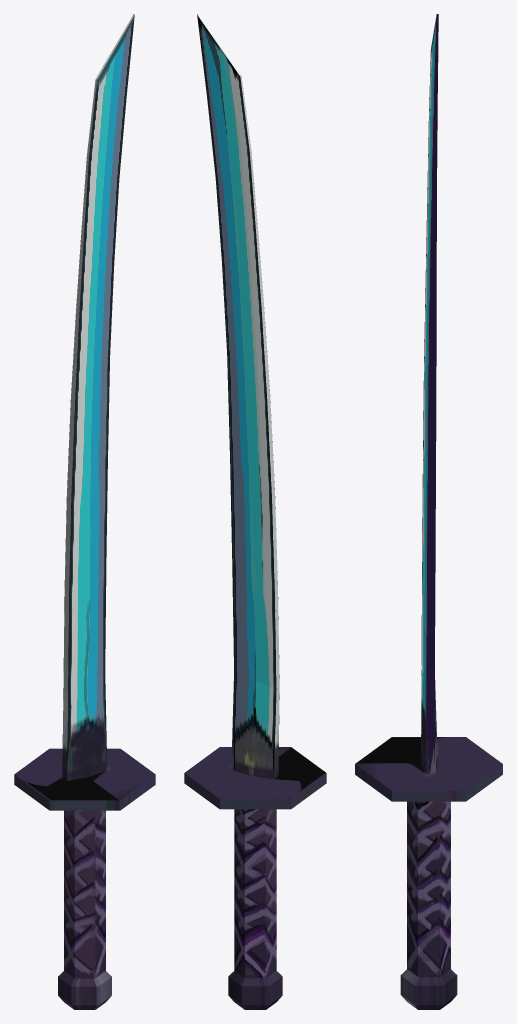
Rendered from SM_Katana.fbx.
The picture shows the model from 3 angles, left to right: view 1: azimuth 30°, elevation 25°; view 2: azimuth 150°, elevation 25°; view 3: azimuth 270°, elevation 25°; orthographic projection. The views are drawn at different scales.
Parts seen in each view (by area): view 1: SM_Katana; view 2: SM_Katana; view 3: SM_Katana.
Part boxes in pixels (x1,y1,x2,y2): SM_Katana: [14, 14, 155, 1009]; SM_Katana: [184, 14, 326, 1009]; SM_Katana: [355, 14, 502, 1009].
Bounding box in the file's own units: 13.86 × 121 × 15.94.
1 material, 1 textured.
